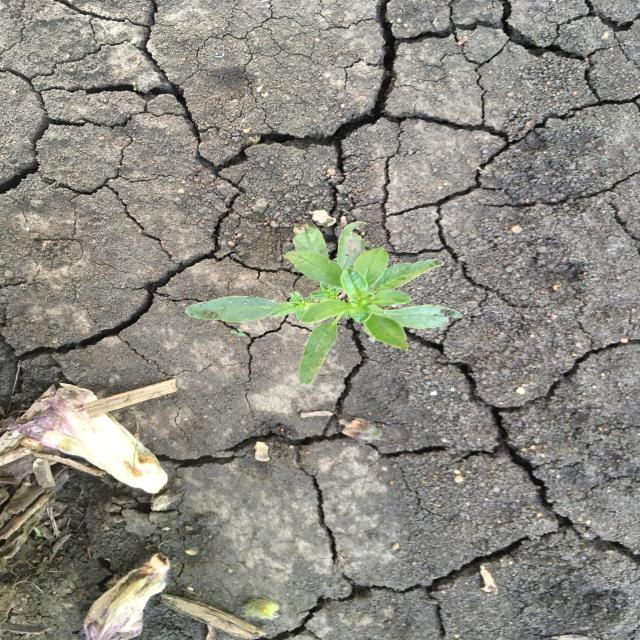Waterhemp: (182, 220, 464, 385)
